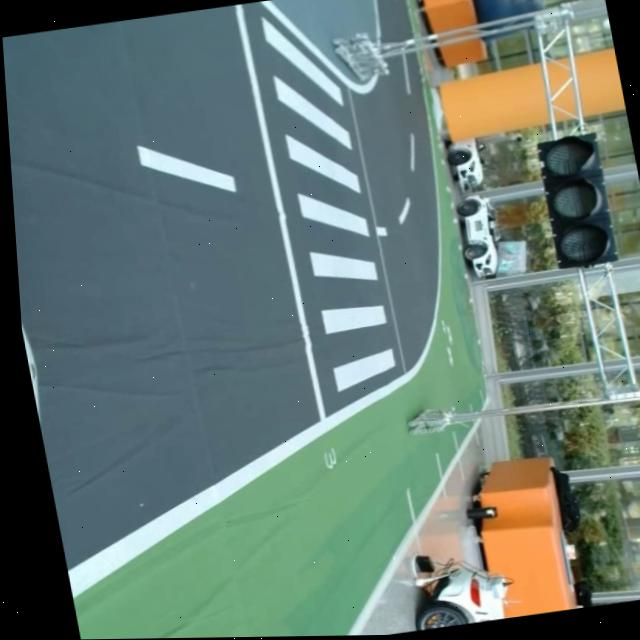traffic-light: (531, 128, 619, 274)
